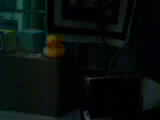duck: (38, 32, 64, 61)
